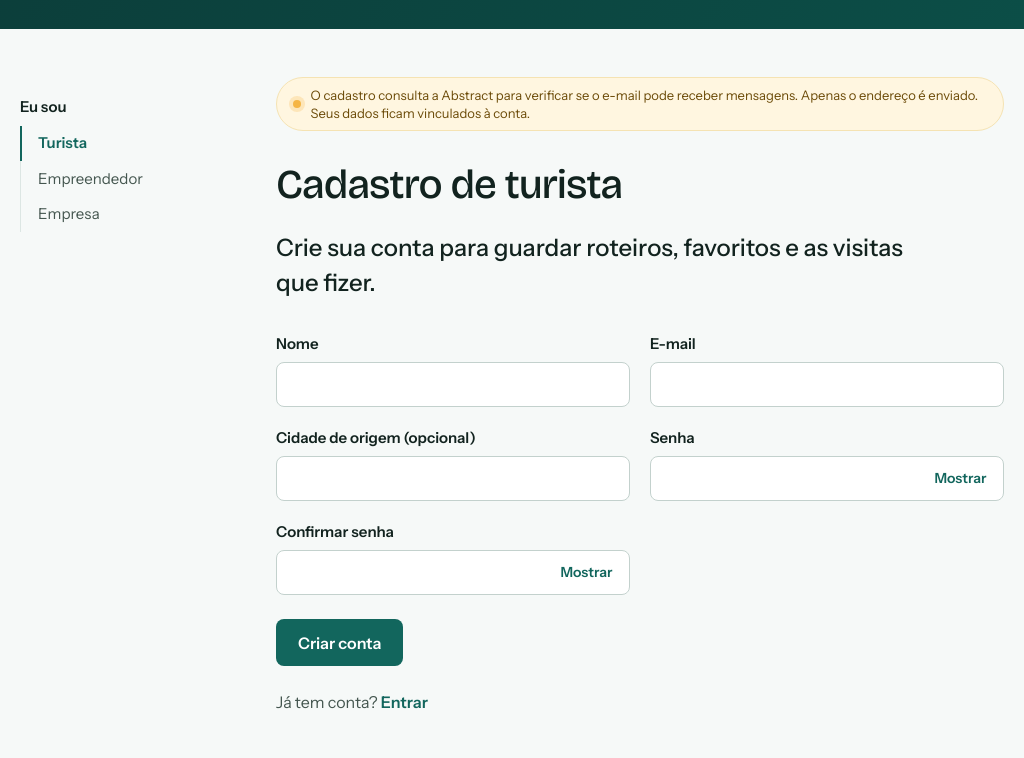
Test case: Tela de Cadastro › bloqueia o cadastro quando a API responde inconclusivo
(page scrolled)
In the field labelled "Nome": point(453, 384) [276,362,630,407], type "Maria"
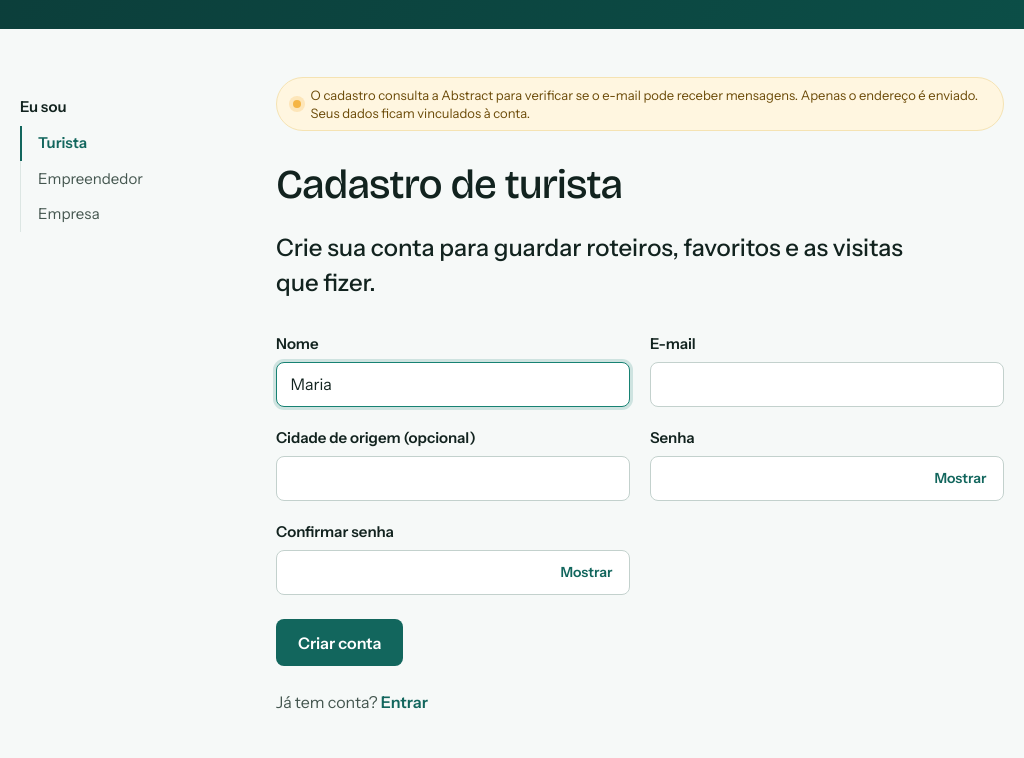
In the field labelled "E-mail": point(827, 384) [650,362,1004,407], type "maria@exemplo.com"
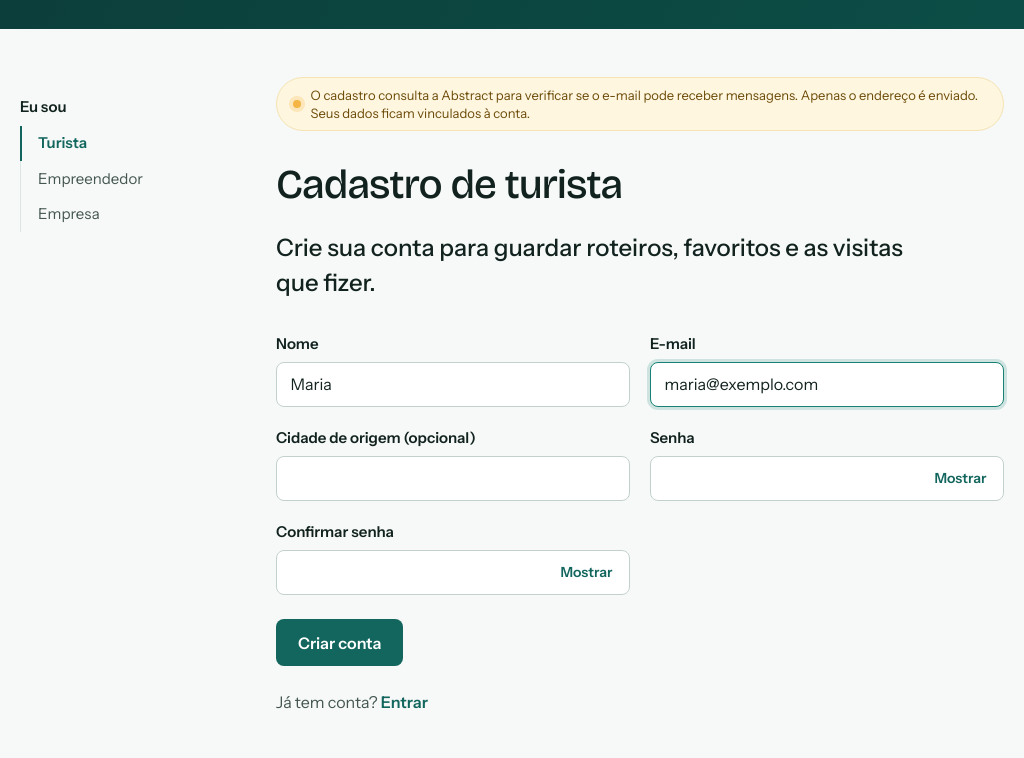
In the password field labelled "Senha": point(827, 478) [650,456,1004,501], type "Segredo1!"
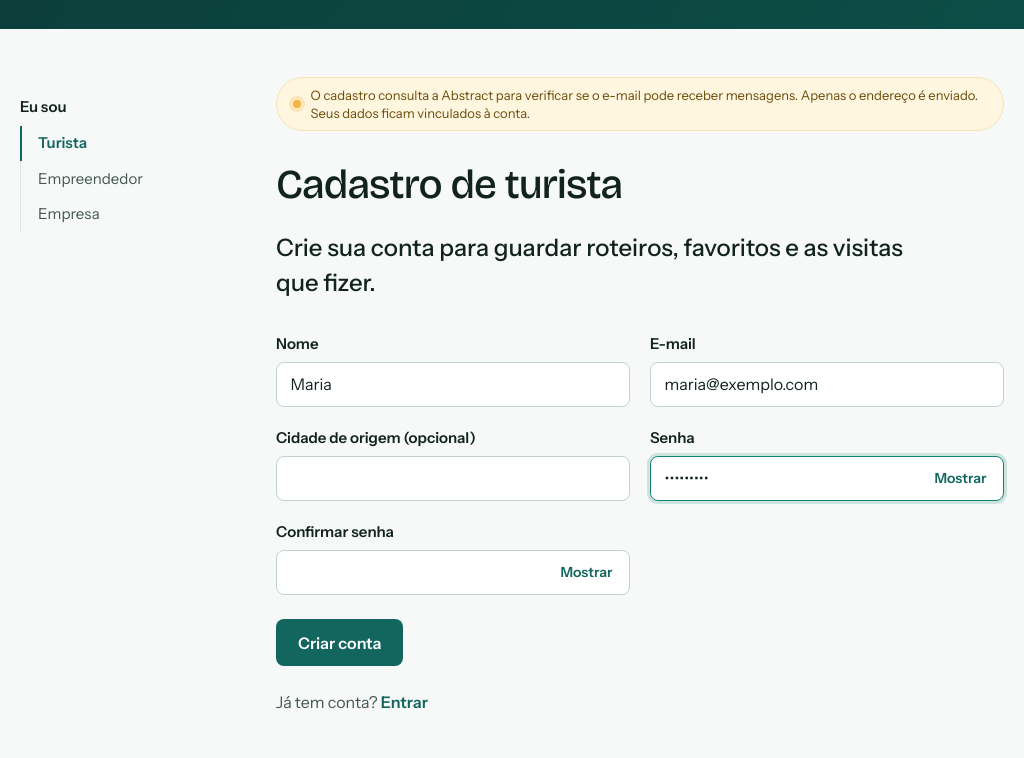
In the password field labelled "Confirmar senha": point(453, 572) [276,550,630,595], type "Segredo1!"
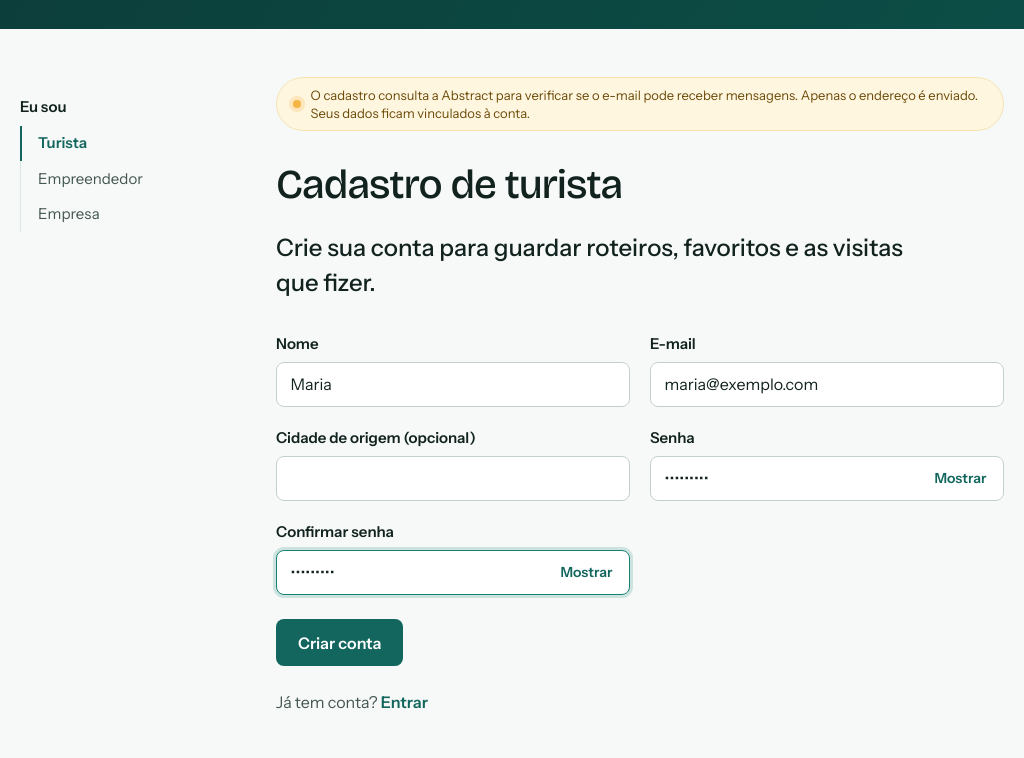
Click the button "Criar conta": point(340, 643) [276,619,404,666]
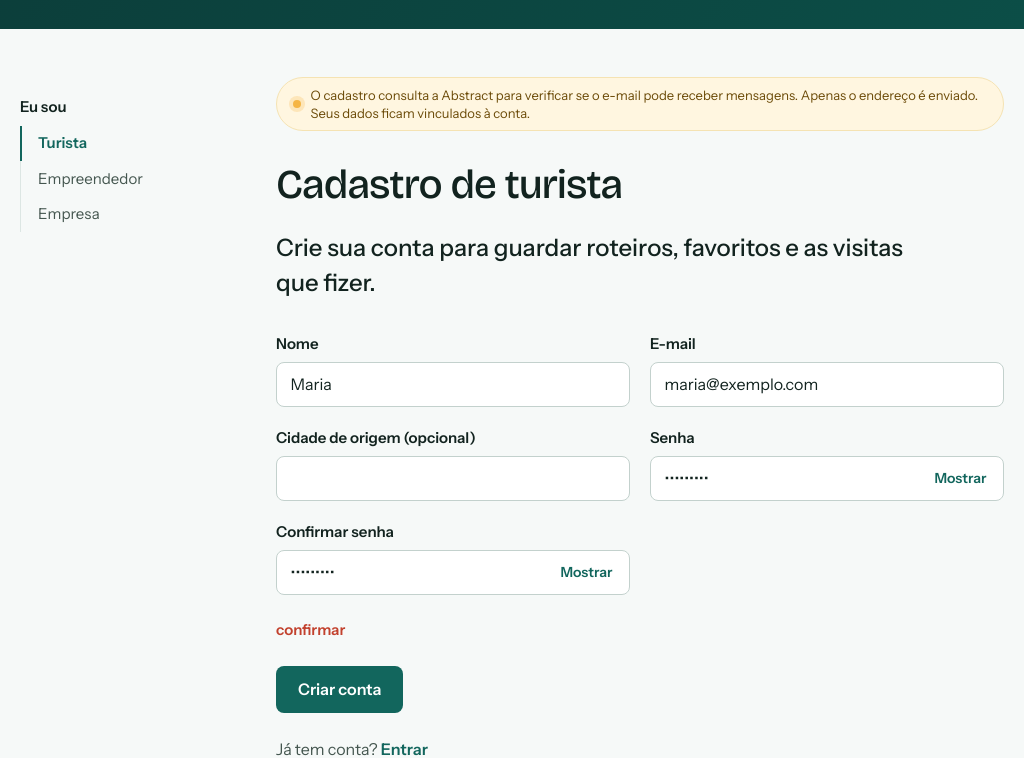
Expected: the message reads "confirmar", [276,620,345,639]
